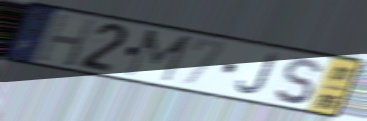2: (77, 23, 131, 76)
7: (181, 36, 231, 90)
H: (34, 11, 99, 70)
J: (236, 52, 280, 96)
M: (122, 28, 195, 85)
S: (272, 56, 324, 106)
